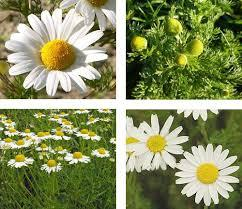chamomile: (15, 13, 102, 92), (181, 152, 238, 203), (135, 125, 180, 166), (123, 121, 144, 176), (66, 2, 107, 24), (172, 109, 224, 124), (45, 114, 75, 131), (7, 154, 34, 168), (78, 126, 98, 141), (65, 154, 91, 164), (41, 159, 57, 173), (98, 146, 113, 159), (0, 134, 13, 149), (1, 115, 19, 125), (15, 136, 28, 149), (38, 142, 52, 152), (35, 132, 52, 140), (6, 126, 19, 136), (54, 148, 67, 156)
